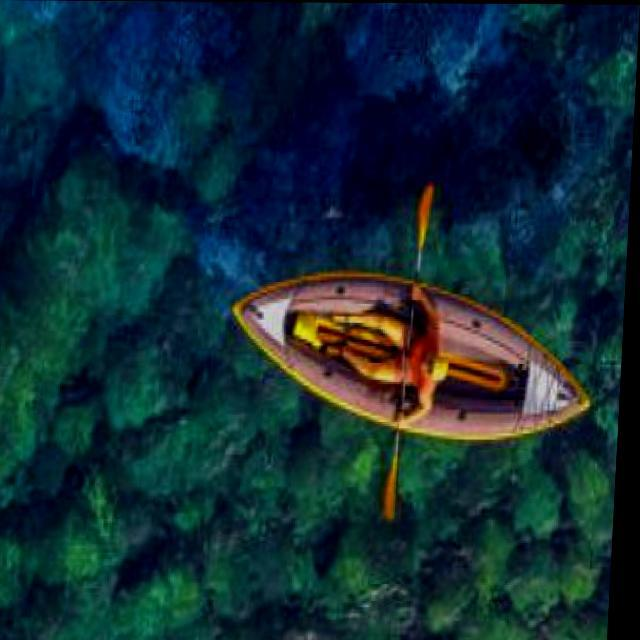kayak: (410, 287, 594, 439), (239, 273, 413, 422)
